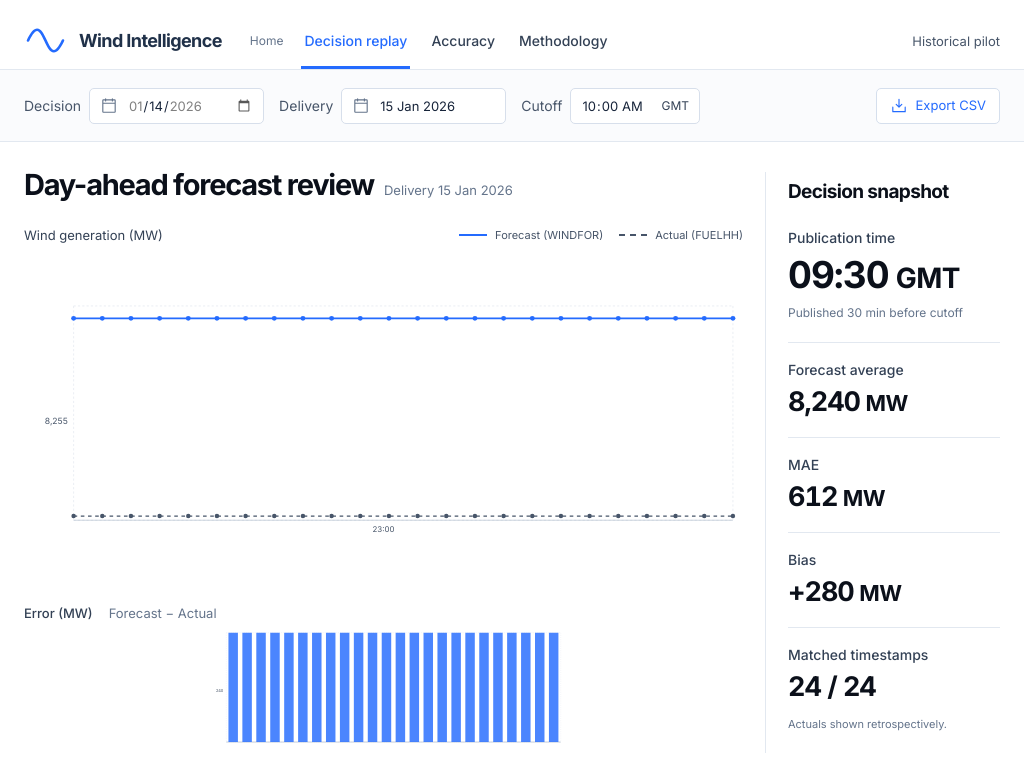
Test case: core workflow › handles native input events after browser autofill changes a date
Expected: the element "Decision snapshot" is shown, [765,172,1000,753]
Type "2026-01-31" into the date field named "Decision date" at (191, 106), box [128,88,253,122]
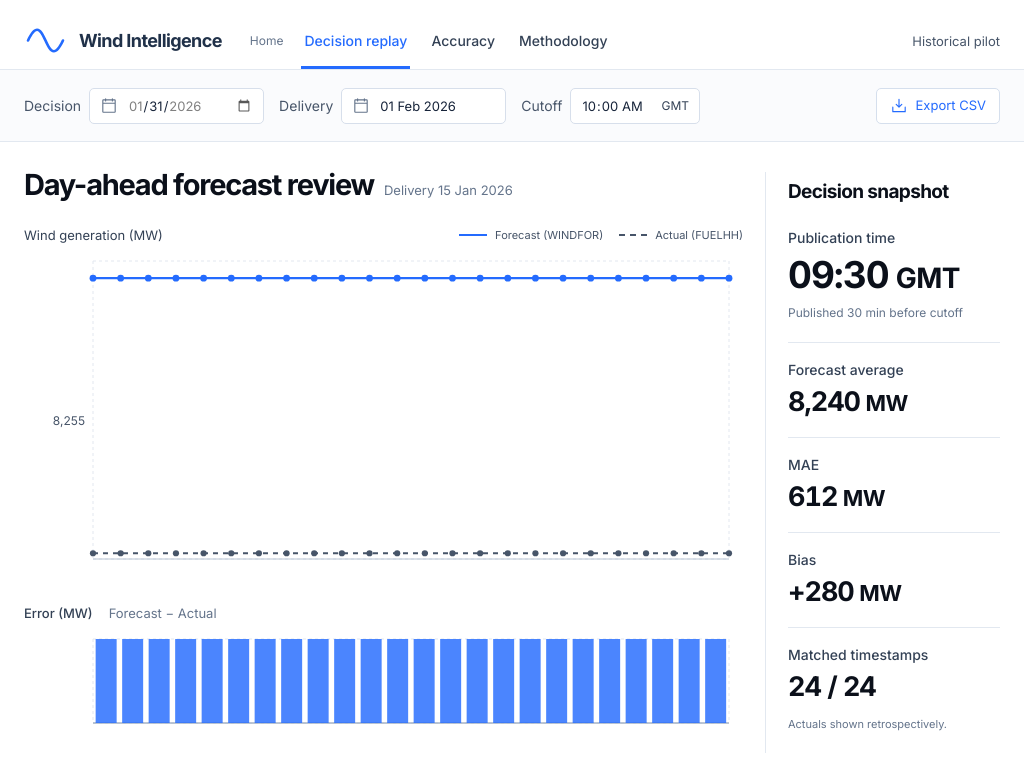
Expected: the field named "Delivery date" holds "01 Feb 2026", [380,88,495,122]
